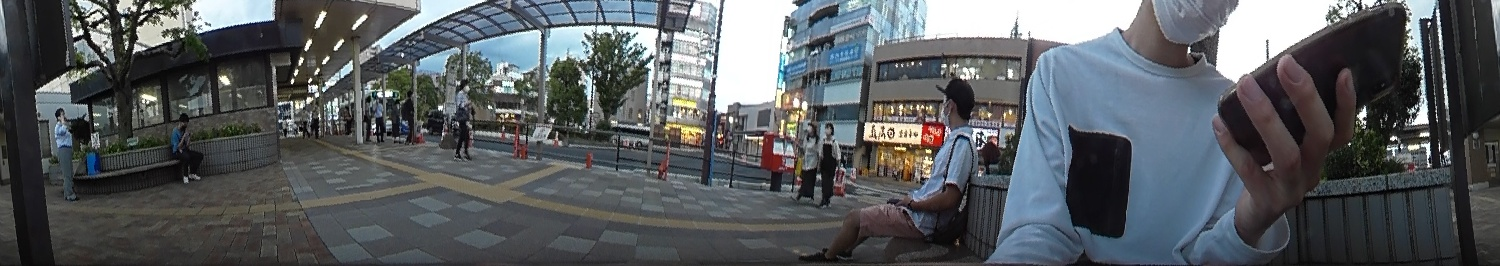difficult_person: (371, 93, 386, 140), (390, 97, 402, 141), (362, 93, 372, 141), (309, 101, 323, 135), (299, 103, 309, 135)
person: (799, 74, 988, 266), (49, 101, 89, 200), (171, 111, 206, 184), (816, 118, 843, 205), (450, 73, 473, 162), (796, 118, 819, 202)
